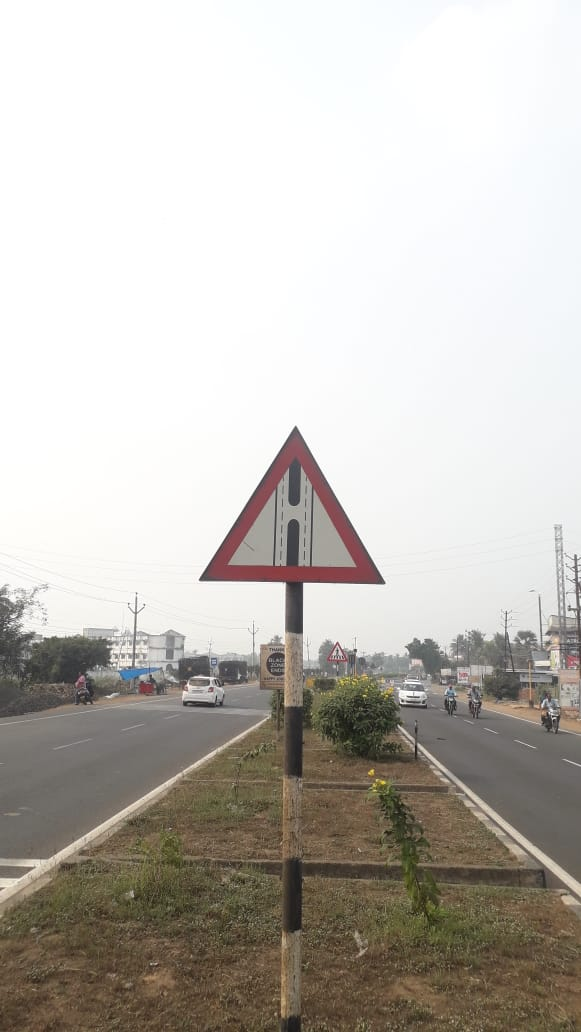highway go straight: (188, 402, 404, 627)
